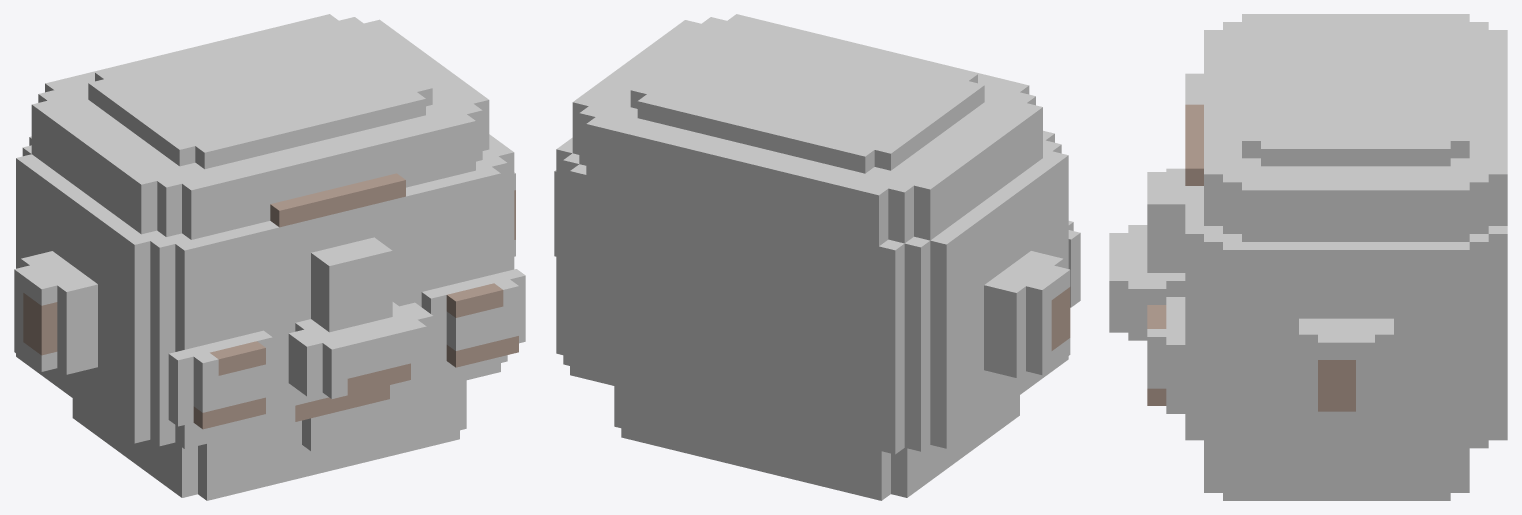
File: head_elder.glb
3 views of the same model, side by side, from view 1: azimuth 30°, elevation 25°; view 2: azimuth 150°, elevation 25°; view 3: azimuth 270°, elevation 25° (orthographic). The views are drawn at different scales.
Parts seen in each view (by area): view 1: VoxelVisual; view 2: VoxelVisual; view 3: VoxelVisual.
Boxes of the visible parts, <box> form: VoxelVisual: <box>14,14,525,500</box>; VoxelVisual: <box>554,14,1080,500</box>; VoxelVisual: <box>1109,14,1507,500</box>.
Size of what is drawn, in the model's own units: 1.88 by 1.25 by 1.31.
